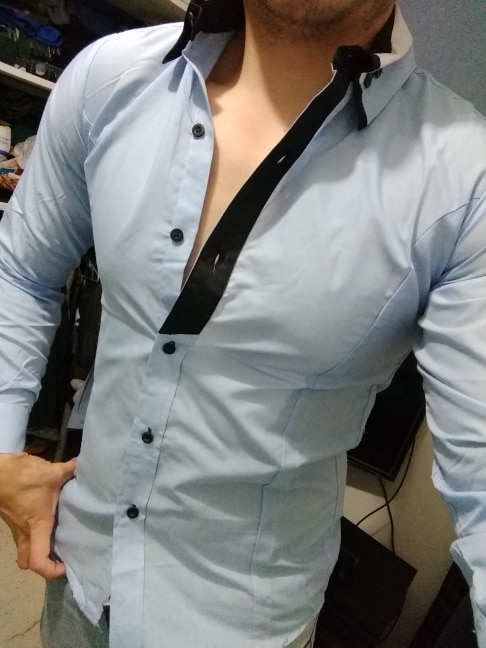shirts: (12, 17, 486, 593)
